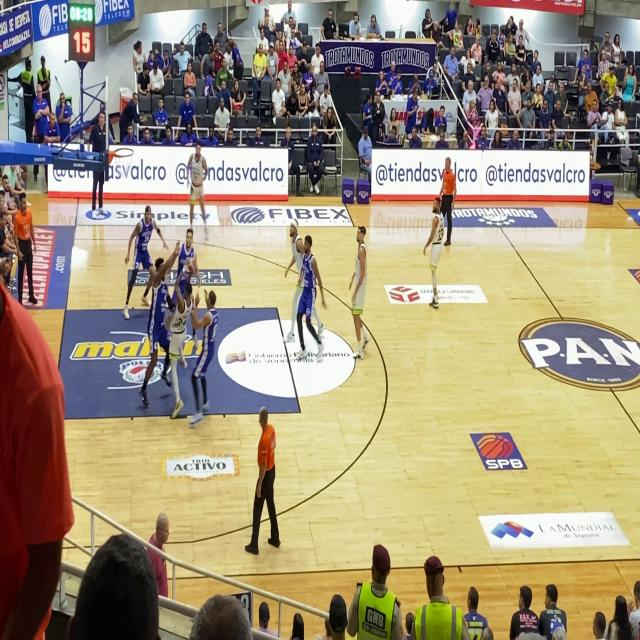Ball: (183, 253, 200, 275)
referee: (248, 392, 288, 558), (12, 187, 48, 305), (440, 160, 464, 256)
team1: (176, 128, 226, 242), (344, 211, 375, 385), (164, 274, 198, 428), (418, 186, 448, 320), (280, 209, 308, 314)
team2: (139, 240, 171, 398), (298, 226, 326, 352), (198, 288, 221, 428), (131, 198, 156, 322), (172, 218, 202, 289)
ubasket: (114, 144, 136, 163)
